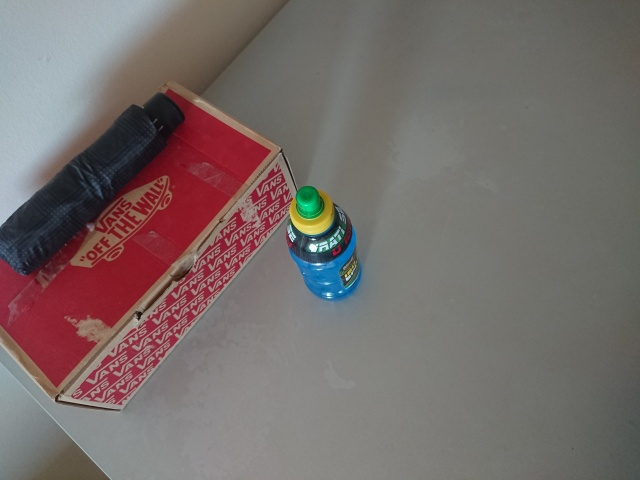Vindi Iso Sport Forest Strawberries 500mL: (283, 183, 362, 303)
